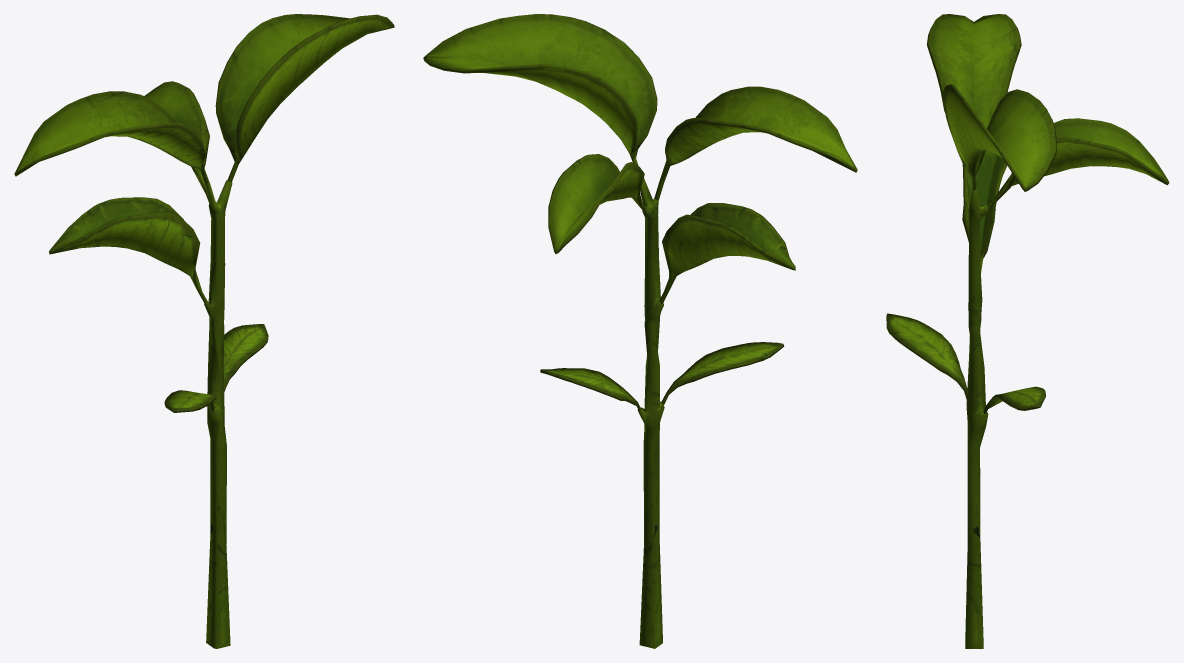
The model's file is sapling-transformed.glb.
3 renders of one model, left to right at view 1: azimuth 30°, elevation 25°; view 2: azimuth 150°, elevation 25°; view 3: azimuth 270°, elevation 25°, orthographic.
Visible parts, largest first — view 1: Sm_Sapling_01__0; view 2: Sm_Sapling_01__0; view 3: Sm_Sapling_01__0.
Boxes of the visible parts, x1,y1,x2,y2 form: Sm_Sapling_01__0: [14, 14, 394, 648]; Sm_Sapling_01__0: [423, 14, 857, 648]; Sm_Sapling_01__0: [886, 14, 1169, 648].
Bounding box in the file's own units: 136 × 191 × 81.98.
1 material, 1 textured.
